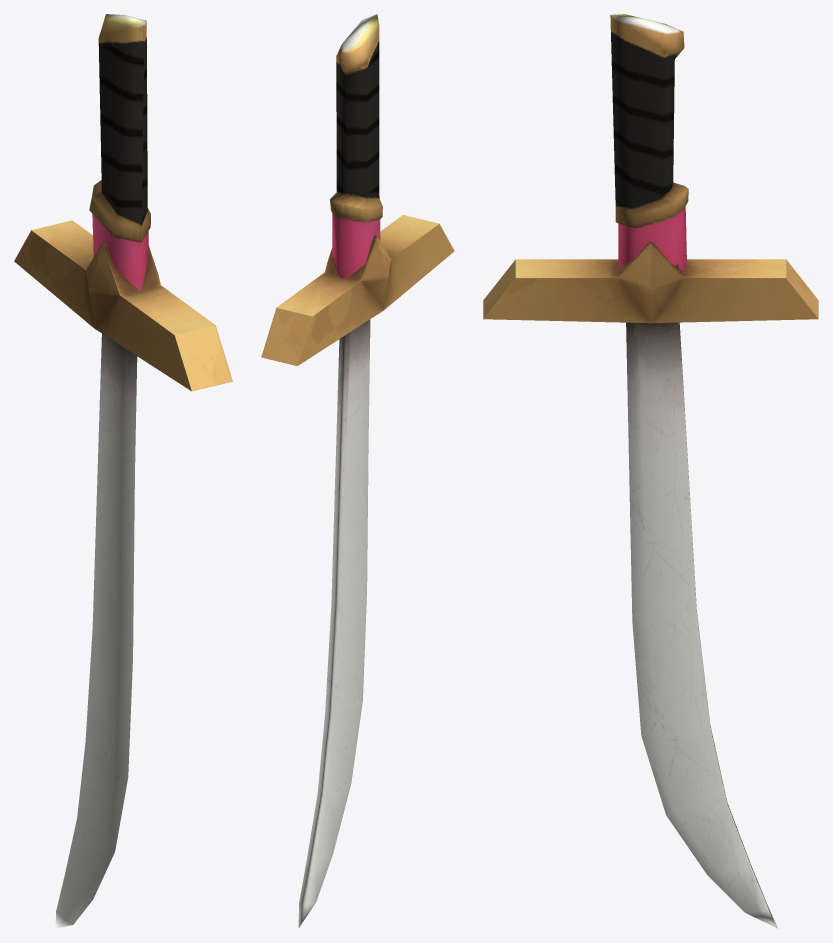
The model's file is SwordWhitmore.fbx.
3 views of the same model, side by side, from view 1: azimuth 30°, elevation 25°; view 2: azimuth 150°, elevation 25°; view 3: azimuth 270°, elevation 25° (orthographic). The views are drawn at different scales.
Visible parts, largest first — view 1: EcazSwordWhitmore; view 2: EcazSwordWhitmore; view 3: EcazSwordWhitmore.
Part boxes in pixels (bbox=[...]): EcazSwordWhitmore: bbox=[14, 14, 232, 928]; EcazSwordWhitmore: bbox=[261, 14, 454, 927]; EcazSwordWhitmore: bbox=[483, 14, 818, 928].
Size of the model in its own units: 0.082 by 0.3658 by 1.1.
